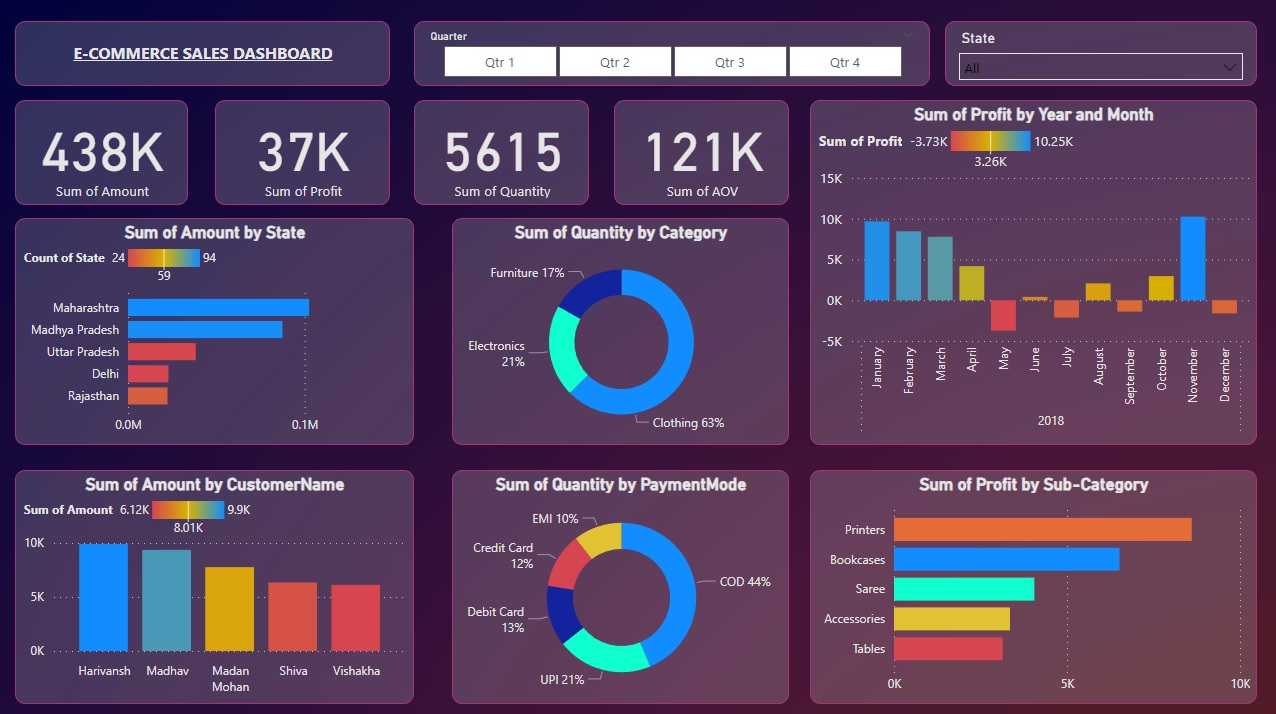

What the dashboard file says about the page in this screenshot:
{"tool":"powerbi","page":{"name":"Page 1","canvas":[1280,720],"ordinal":0},"visuals":[{"type":"textbox","box":[16.5,24.3,375.2,65.1],"z":0},{"type":"columnChart","fields":{"Y":["Details.Profit"],"Category":["Orders.Order Date.Variation.Date Hierarchy.Year","Orders.Order Date.Variation.Date Hierarchy.Month"]},"box":[811.5,103,447.1,345],"z":1000},{"type":"barChart","fields":{"Category":["Details.Sub-Category"],"Y":["Details.Profit"]},"box":[811.5,473.3,447.1,233.3],"z":2000},{"type":"donutChart","fields":{"Category":["Details.Category"],"Y":["Details.Quantity"]},"box":[453.9,220.6,337.3,227.4],"z":3000},{"type":"donutChart","fields":{"Y":["Details.Quantity"],"Category":["Details.PaymentMode"]},"box":[453.9,473.3,337.3,233.3],"z":4000},{"type":"card","fields":{"Values":["Details.Amount"]},"box":[16.5,103,174,105],"z":5000},{"type":"card","fields":{"Values":["Details.Profit"]},"box":[216.7,103,174.9,105],"z":6000},{"type":"card","fields":{"Values":["Details.Quantity"]},"box":[416,103,174.9,105],"z":7000},{"type":"card","fields":{"Values":["Details.AOV"]},"box":[616.2,103,174.9,105],"z":8000},{"type":"barChart","fields":{"Category":["Orders.State"],"Y":["Details.Amount"]},"box":[16.5,220.6,399.5,227.4],"z":9000},{"type":"columnChart","fields":{"Y":["Details.Amount"],"Category":["Orders.CustomerName"]},"box":[16.5,473.3,399.5,233.3],"z":10000},{"type":"slicer","fields":{"Values":["Orders.Order Date.Variation.Date Hierarchy.Quarter"]},"box":[416,24.3,516.1,65.1],"z":11000},{"type":"slicer","fields":{"Values":["Orders.State"]},"box":[946.6,24.3,312,65.1],"z":12000}]}

Visuals, with their boxes in screenshot pixels (x1, y1, x2, y2), scaled from the page's 1280x720 canvas onto the 1276x714 screenshot:
textbox: <region>16, 24, 390, 89</region>
columnChart - Details.Profit x Orders.Order Date.Variation.Date Hierarchy.Year: <region>809, 102, 1255, 444</region>
barChart - Details.Sub-Category x Details.Profit: <region>809, 469, 1255, 701</region>
donutChart - Details.Category x Details.Quantity: <region>452, 219, 789, 444</region>
donutChart - Details.Quantity x Details.PaymentMode: <region>452, 469, 789, 701</region>
card - Details.Amount: <region>16, 102, 190, 206</region>
card - Details.Profit: <region>216, 102, 390, 206</region>
card - Details.Quantity: <region>415, 102, 589, 206</region>
card - Details.AOV: <region>614, 102, 789, 206</region>
barChart - Orders.State x Details.Amount: <region>16, 219, 415, 444</region>
columnChart - Details.Amount x Orders.CustomerName: <region>16, 469, 415, 701</region>
slicer - Orders.Order Date.Variation.Date Hierarchy.Quarter: <region>415, 24, 929, 89</region>
slicer - Orders.State: <region>944, 24, 1255, 89</region>
